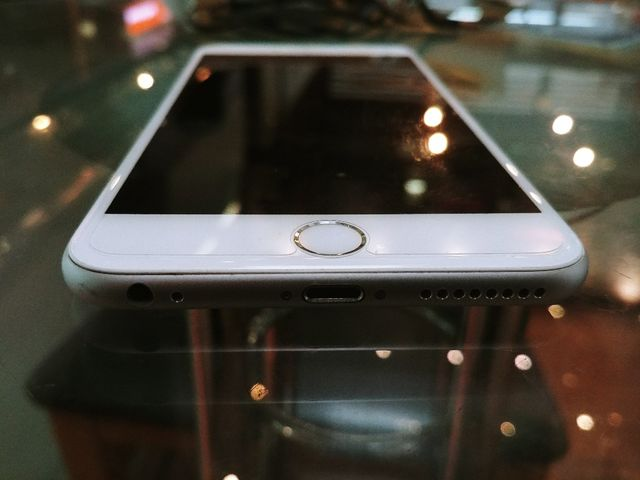phone: (54, 37, 597, 319)
